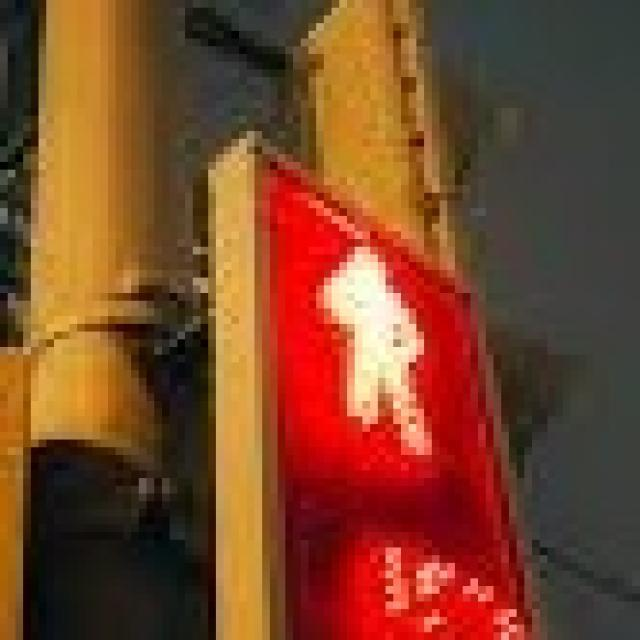red-crossing: (270, 193, 463, 455)
